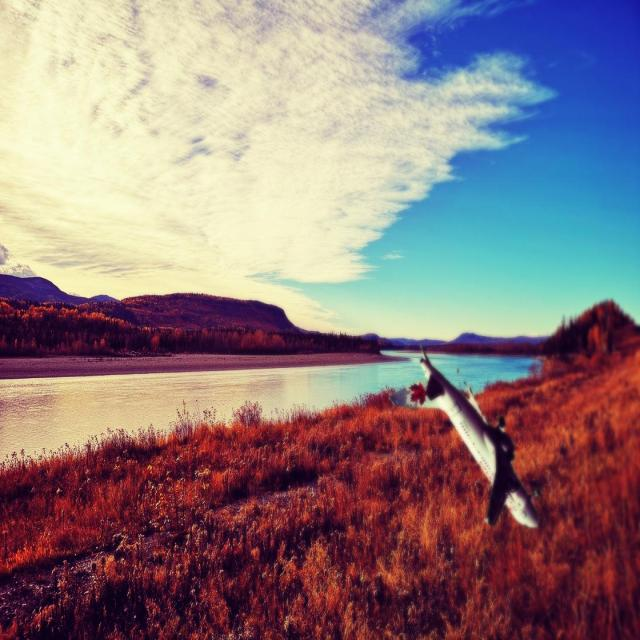airplane: (386, 344, 540, 529)
